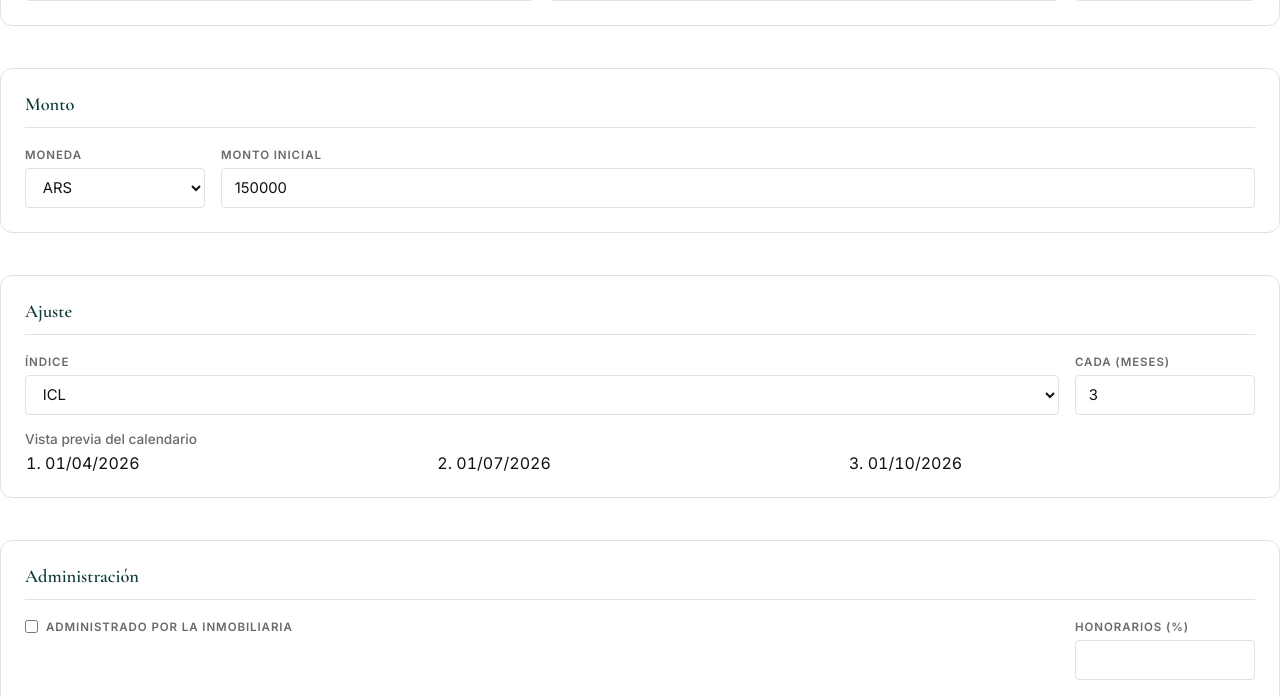
Test: muestra frecuencia con ICL, la oculta con sin_ajuste y pide porcentaje con porcentaje_fijo
(page scrolled)
Expected: the number field labelled "Cada (meses)" is shown, [1075, 375, 1255, 415]
Expected: the field labelled "Porcentaje fijo (%)" is not shown
Select "Sin ajuste" in the dropdown labelled "Índice": [542, 395] box [25, 375, 1059, 415]
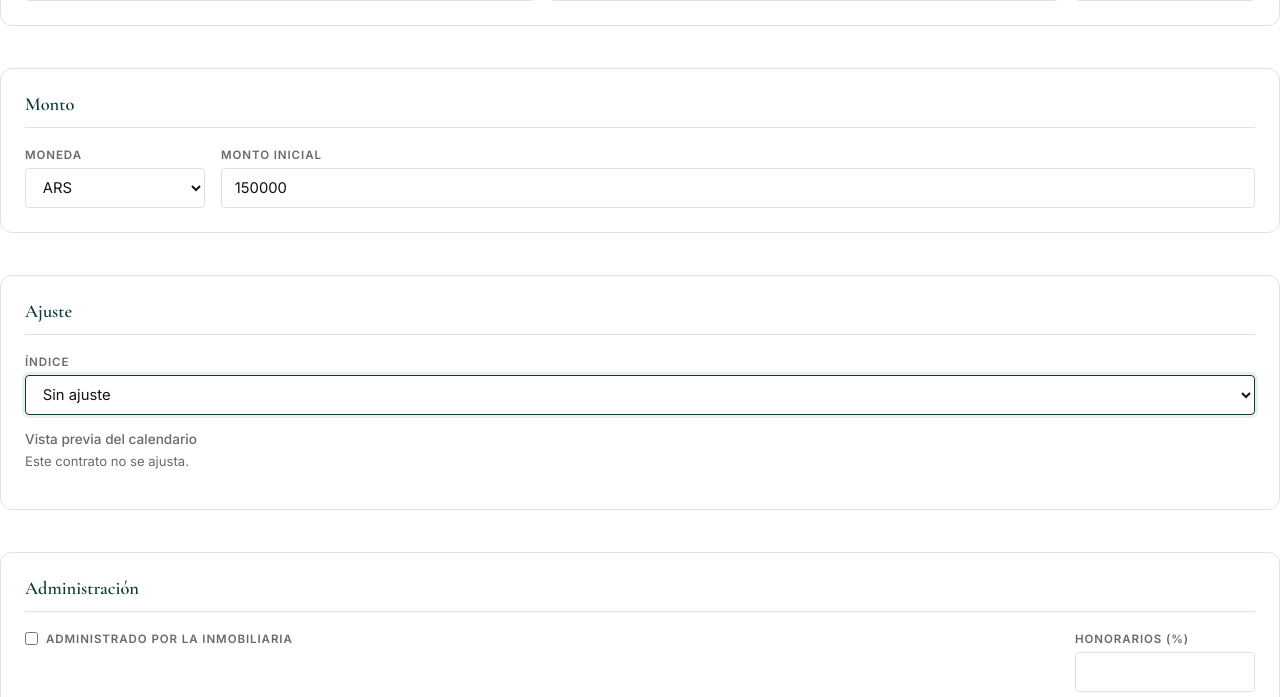
Result: the label labelled "Cada (meses)" is gone
Result: the text "Este contrato no se ajusta." is shown at [25, 453, 189, 469]
Select "Porcentaje fijo" in the dropdown labelled "Índice": [640, 395] box [25, 375, 1255, 415]
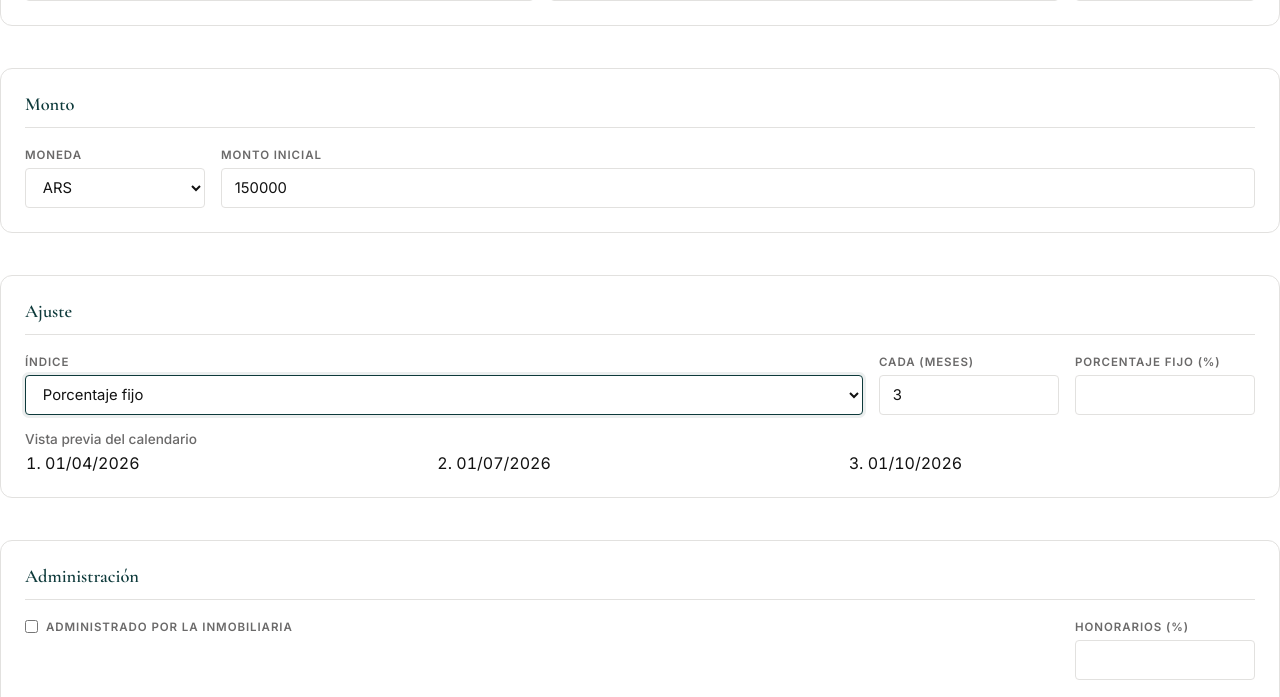
Result: the number field labelled "Cada (meses)" is shown at [879, 375, 1059, 415]
Result: the number field labelled "Porcentaje fijo (%)" is shown at [1075, 375, 1255, 415]
